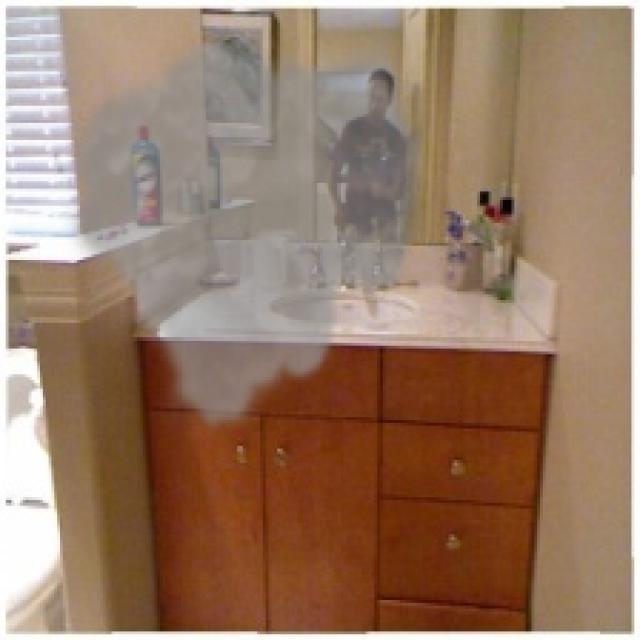smoke: (60, 37, 429, 440)
